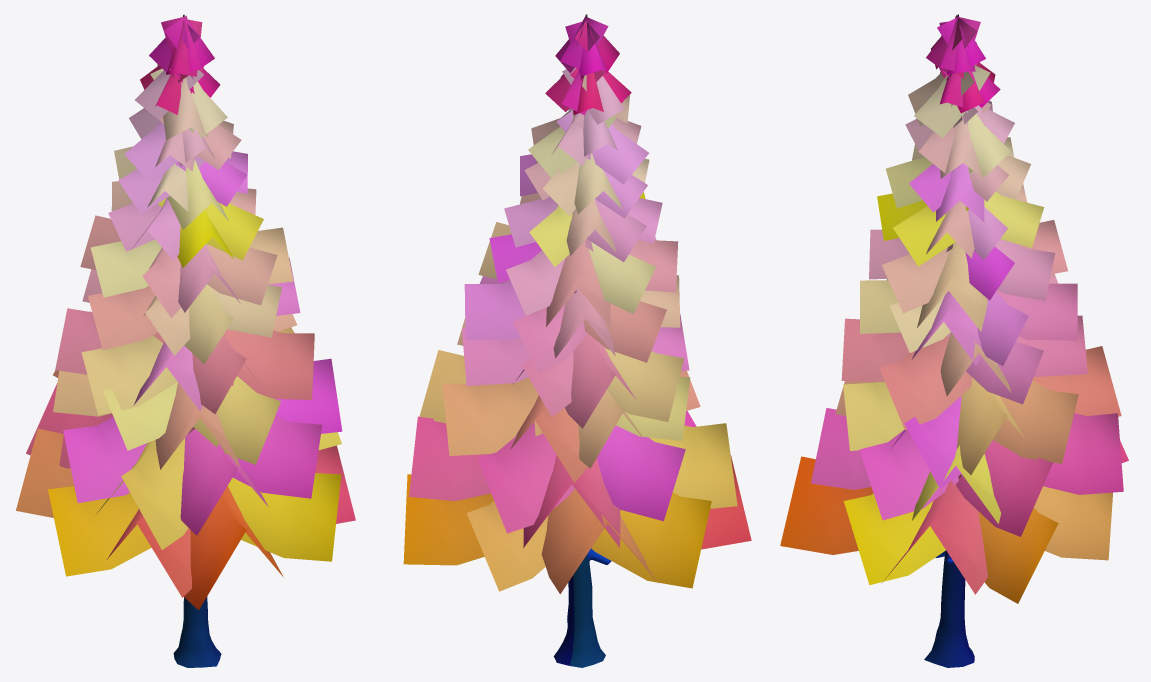
Rendered from treeThreeLod0.glb.
3 views of the same model, side by side, from view 1: azimuth 30°, elevation 25°; view 2: azimuth 150°, elevation 25°; view 3: azimuth 270°, elevation 25° (orthographic).
Visible parts, largest first — view 1: Mesh_0.015; view 2: Mesh_0.015; view 3: Mesh_0.015.
Part boxes in pixels (box(x1,y1,x2,y2)): Mesh_0.015: box(16, 14, 355, 667); Mesh_0.015: box(403, 14, 751, 667); Mesh_0.015: box(780, 14, 1128, 667).
Bounding box in the file's own units: 16.9 × 35.07 × 17.76.
